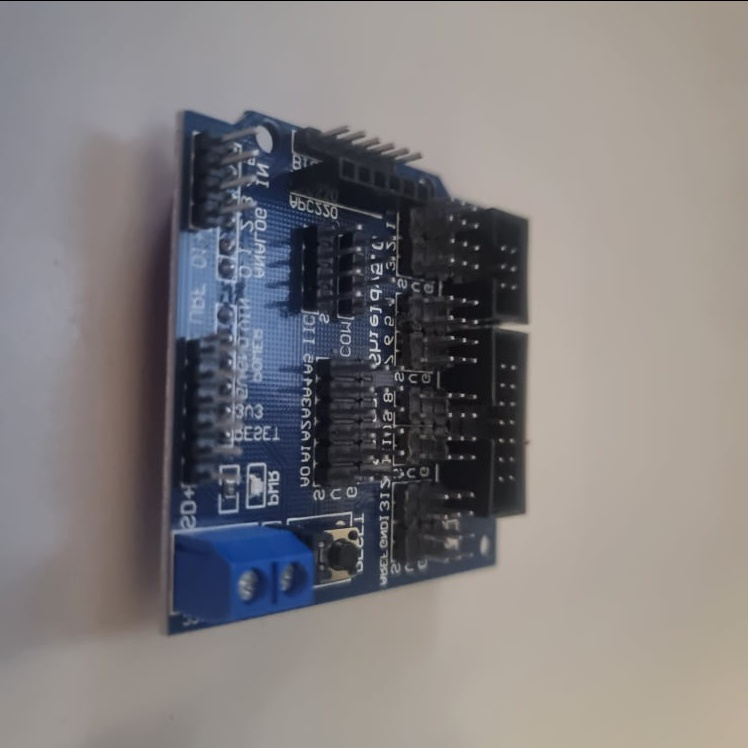5V EXPANSION: (171, 103, 538, 635)
